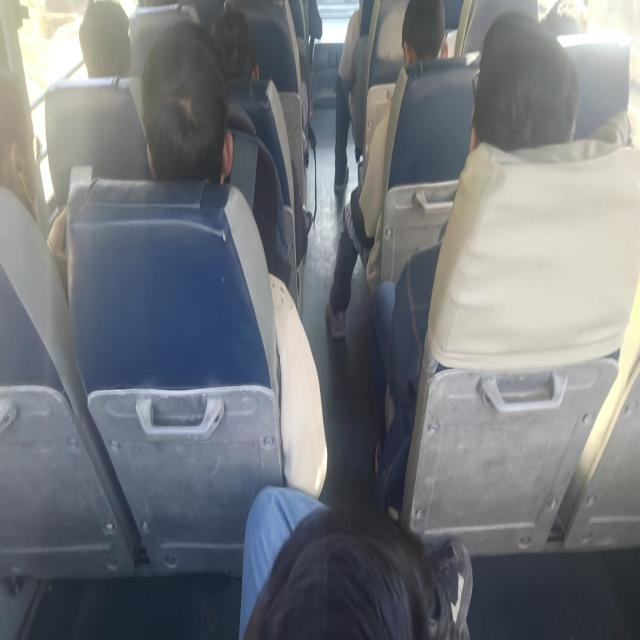person: (370, 8, 580, 516), (140, 19, 328, 498), (140, 20, 296, 301), (325, 0, 448, 340), (238, 484, 474, 638), (470, 9, 580, 152), (140, 20, 233, 184), (333, 7, 361, 191), (78, 0, 132, 78), (212, 8, 259, 81), (401, 0, 447, 66)
